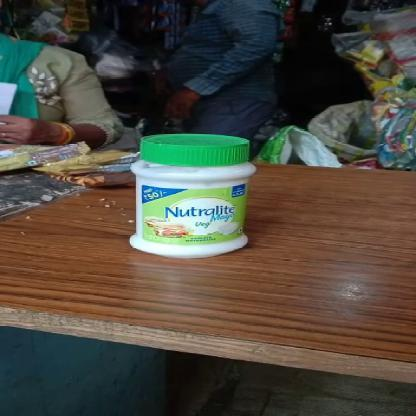Nutralite VEG MAYO 300g-275g-25g-: (136, 134, 259, 257)
